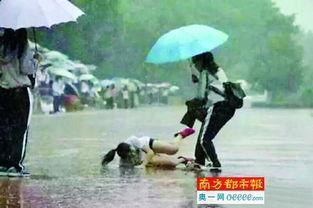Fall-Detected: (98, 117, 200, 175)
